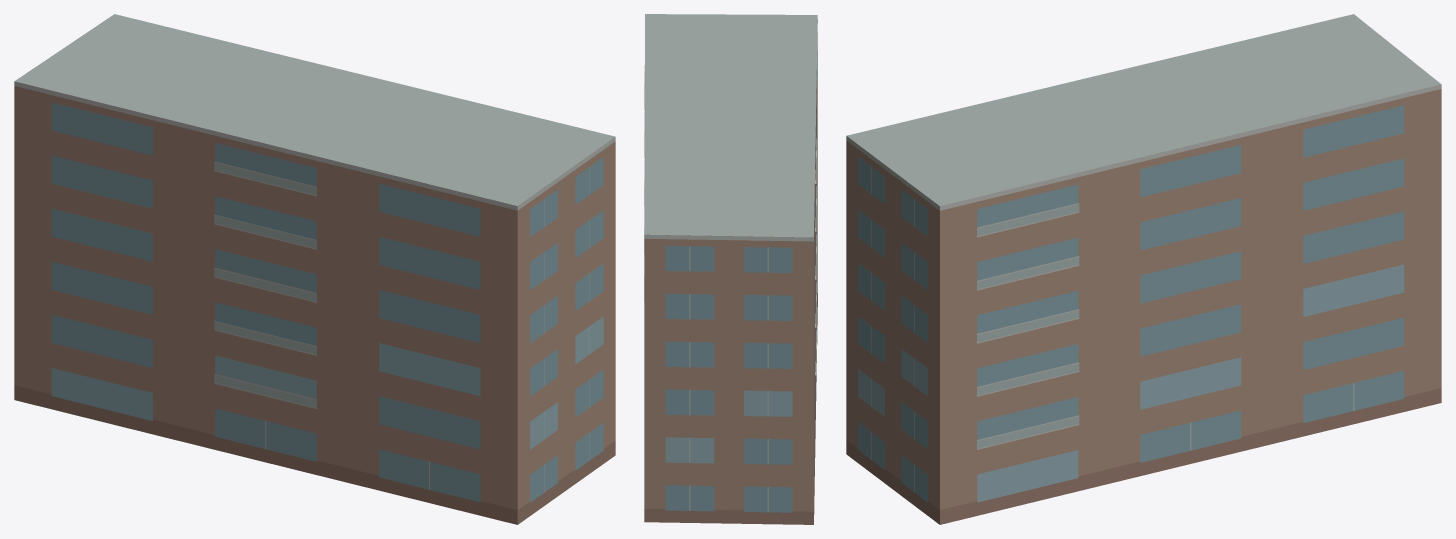
File: survey-upis-32712002.glb
3 views of the same model, side by side, from view 1: azimuth 30°, elevation 25°; view 2: azimuth 150°, elevation 25°; view 3: azimuth 270°, elevation 25° (orthographic). The views are drawn at different scales.
Visible parts, largest first — view 1: survey-upis-32712002.tmp; view 2: survey-upis-32712002.tmp; view 3: survey-upis-32712002.tmp.
Boxes of the visible parts, box(x1,y1,x2,y2) form: survey-upis-32712002.tmp: box(14, 14, 615, 524); survey-upis-32712002.tmp: box(644, 14, 817, 524); survey-upis-32712002.tmp: box(846, 14, 1441, 524).
Size of the model in its own units: 22.28 by 17.2 by 29.13.
